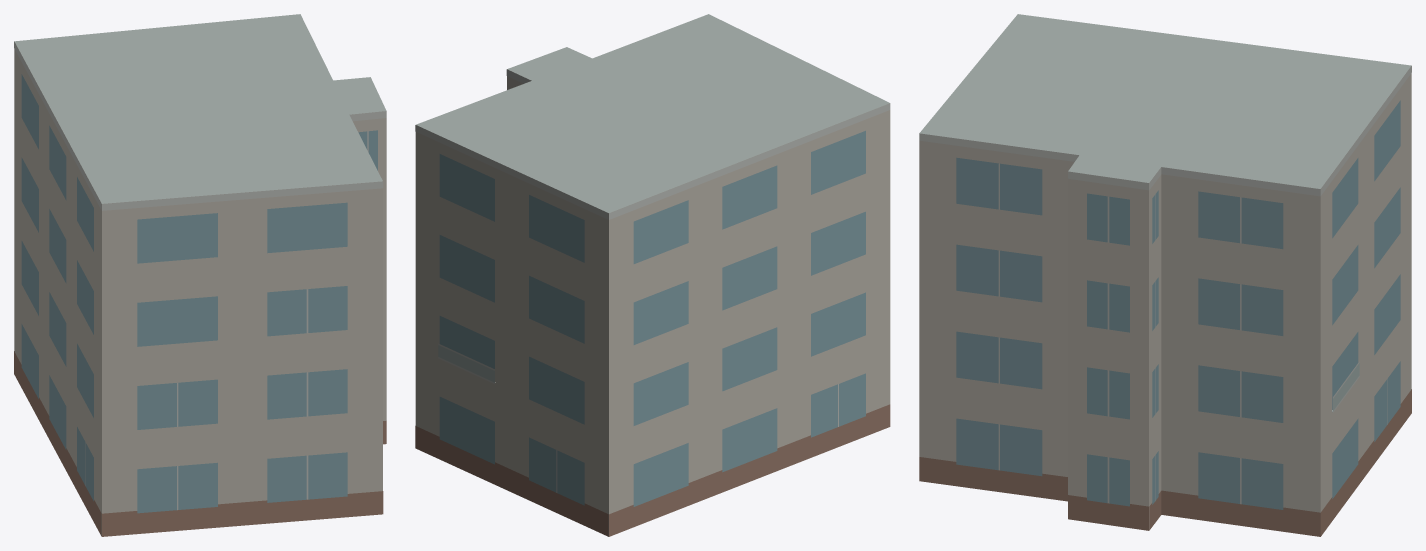
The model's file is survey-upis-32868123.glb.
3 views of the same model, side by side, from view 1: azimuth 30°, elevation 25°; view 2: azimuth 150°, elevation 25°; view 3: azimuth 270°, elevation 25° (orthographic). The views are drawn at different scales.
Visible parts, largest first — view 1: survey-upis-32868123.tmp; view 2: survey-upis-32868123.tmp; view 3: survey-upis-32868123.tmp.
Part boxes in pixels (x1=…): survey-upis-32868123.tmp: x1=14, y1=14, x2=386, y2=536; survey-upis-32868123.tmp: x1=415, y1=14, x2=890, y2=536; survey-upis-32868123.tmp: x1=919, y1=14, x2=1411, y2=536.
Bounding box in the file's own units: 12.59 × 11.65 × 14.96.
